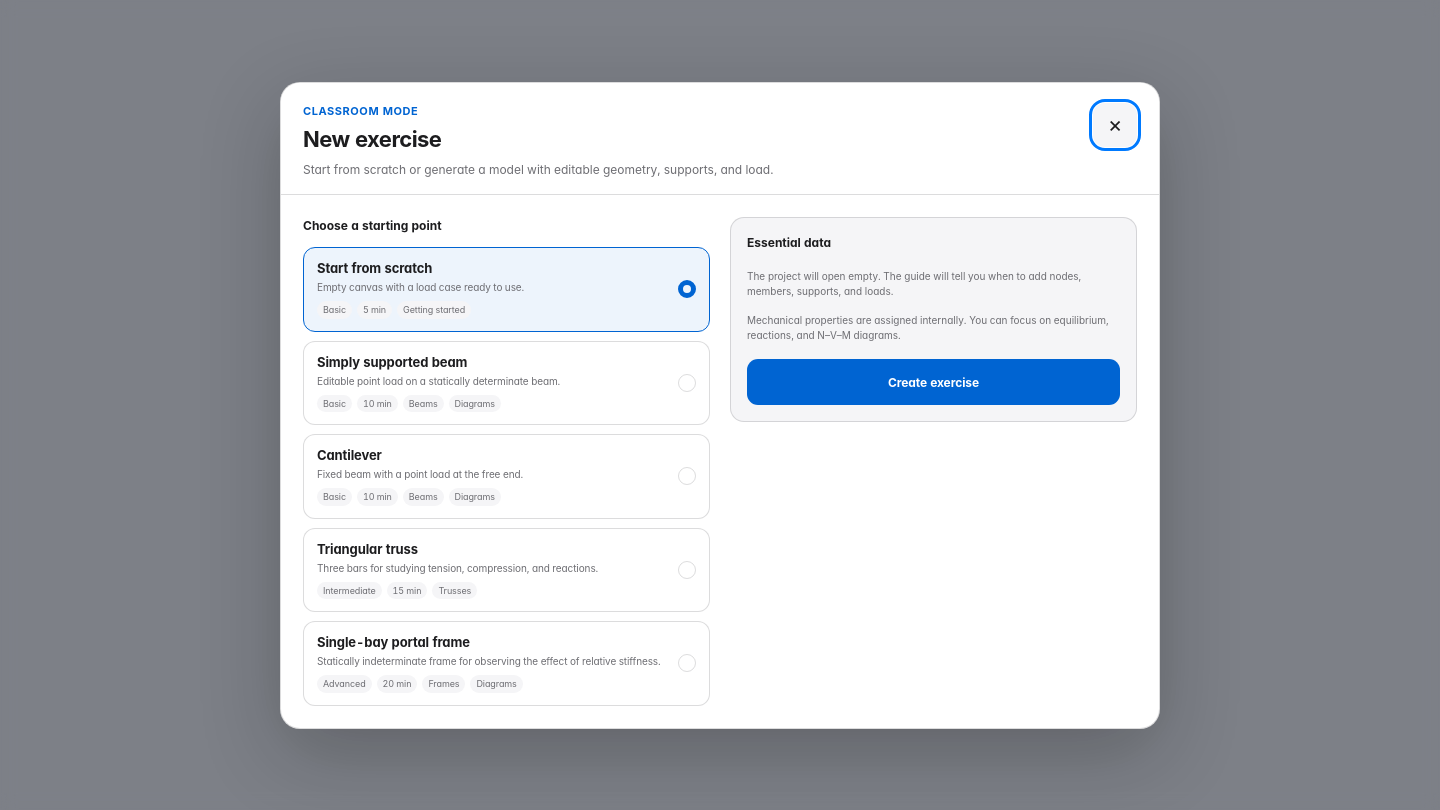
NewExerciseDialog › keeps empty numeric parameters out of the model and reports an inline localized error
Step 1. Click the radio button labelled "Simply supported beam" → (506, 383), box [303,340,710,425]
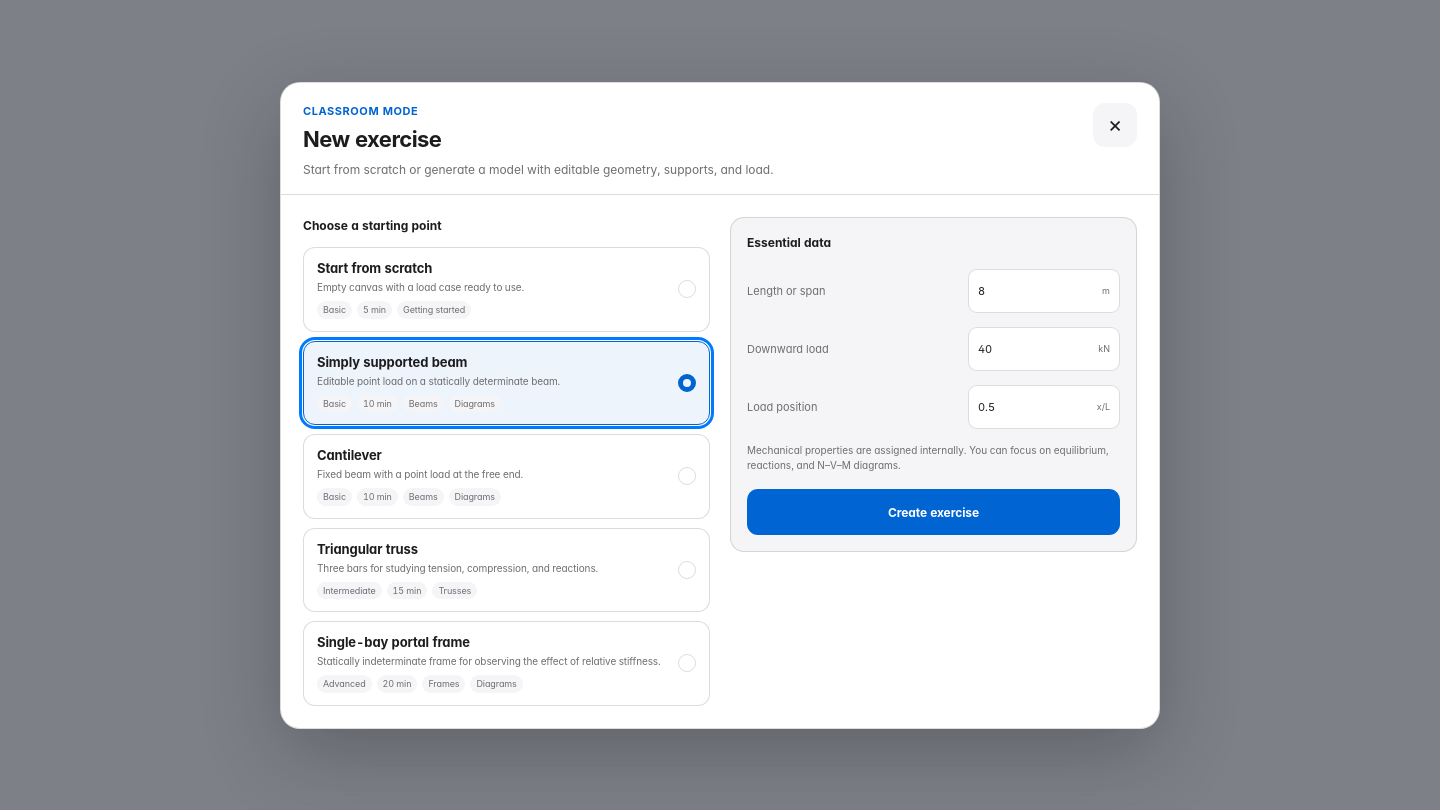
Step 2. Clear the number field labelled "Length or span" → (1031, 291), box [969,270,1093,312]
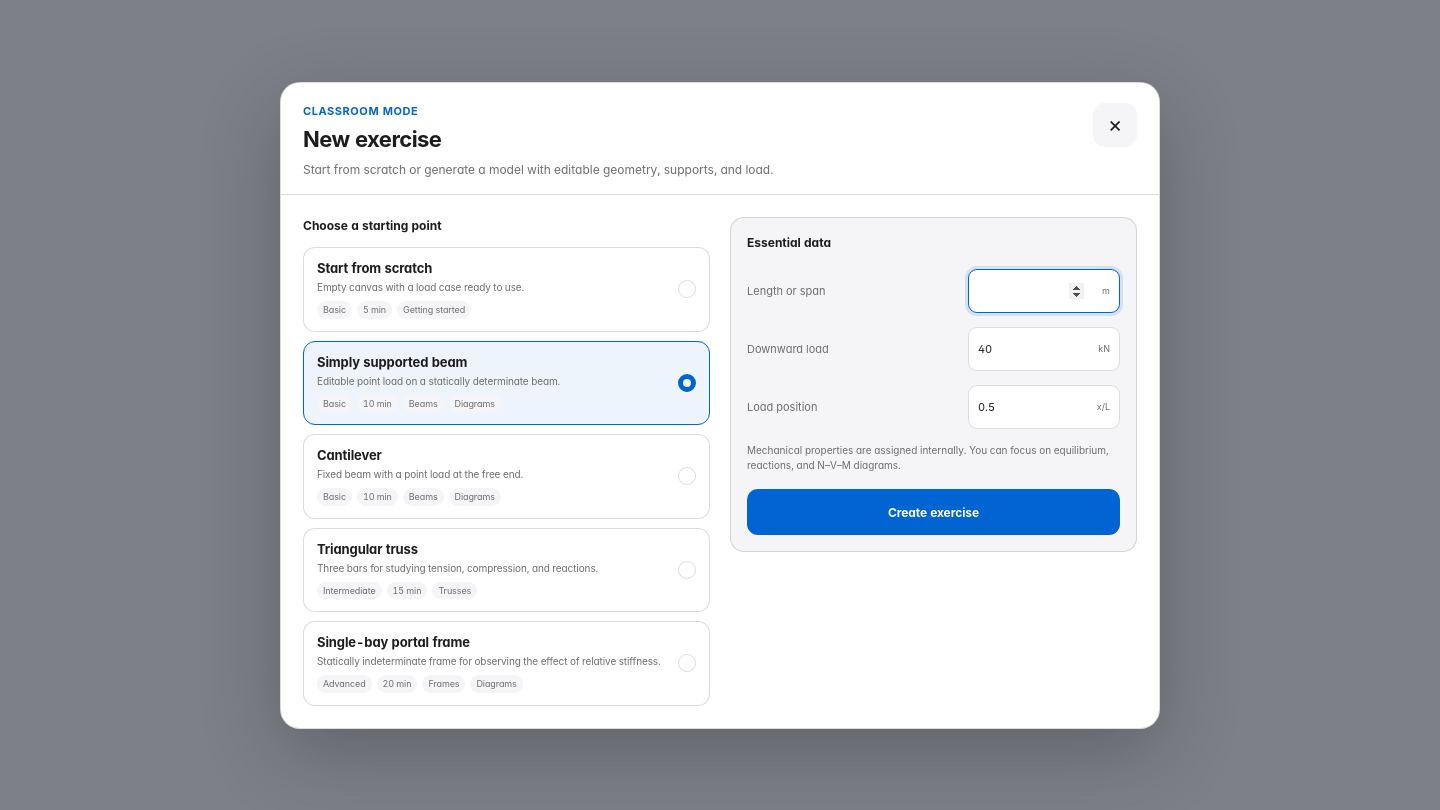
Step 3. Click the button "Create exercise" → (934, 512), box [747,489,1120,535]
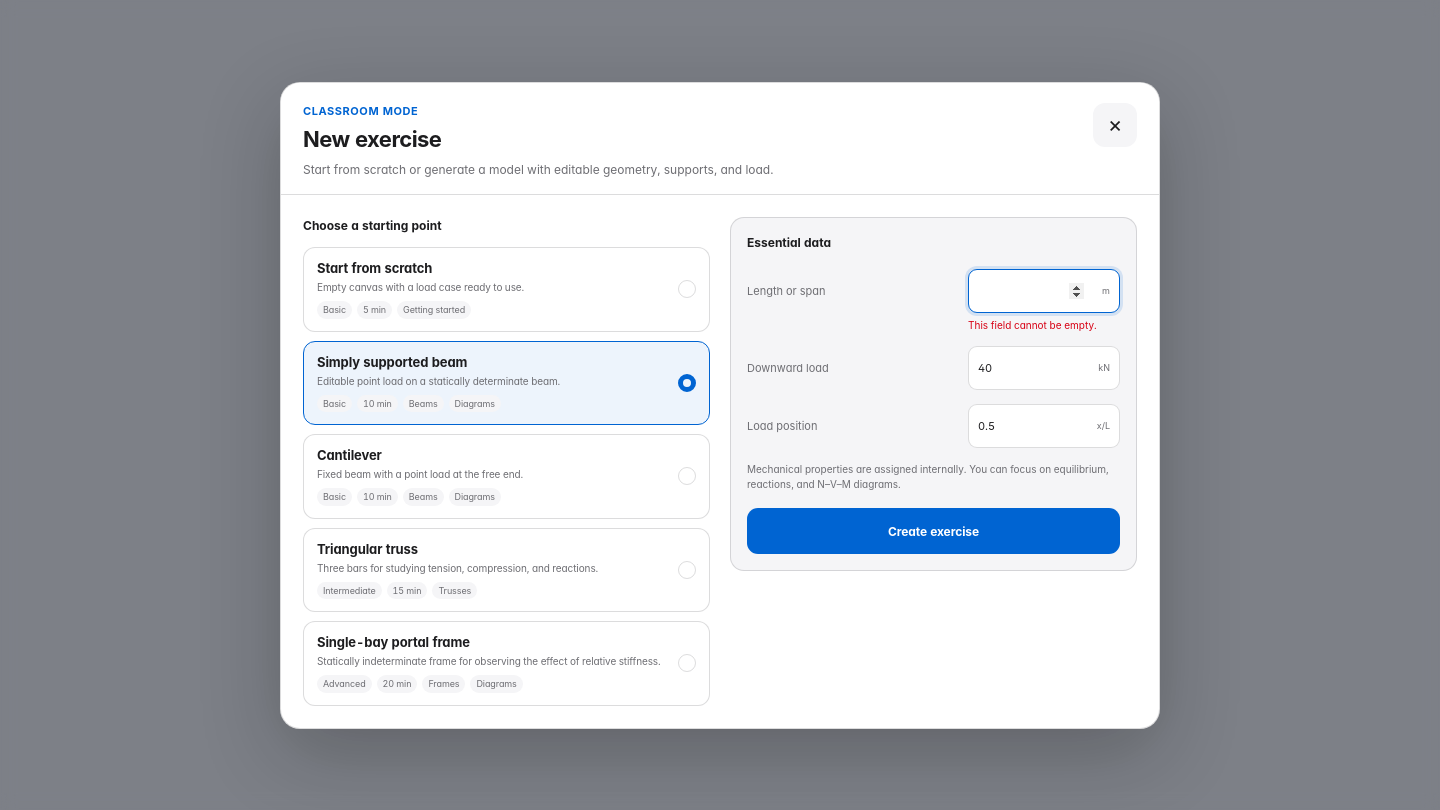
Now the message reads "This field cannot be empty.", box [968,319,1097,331]
